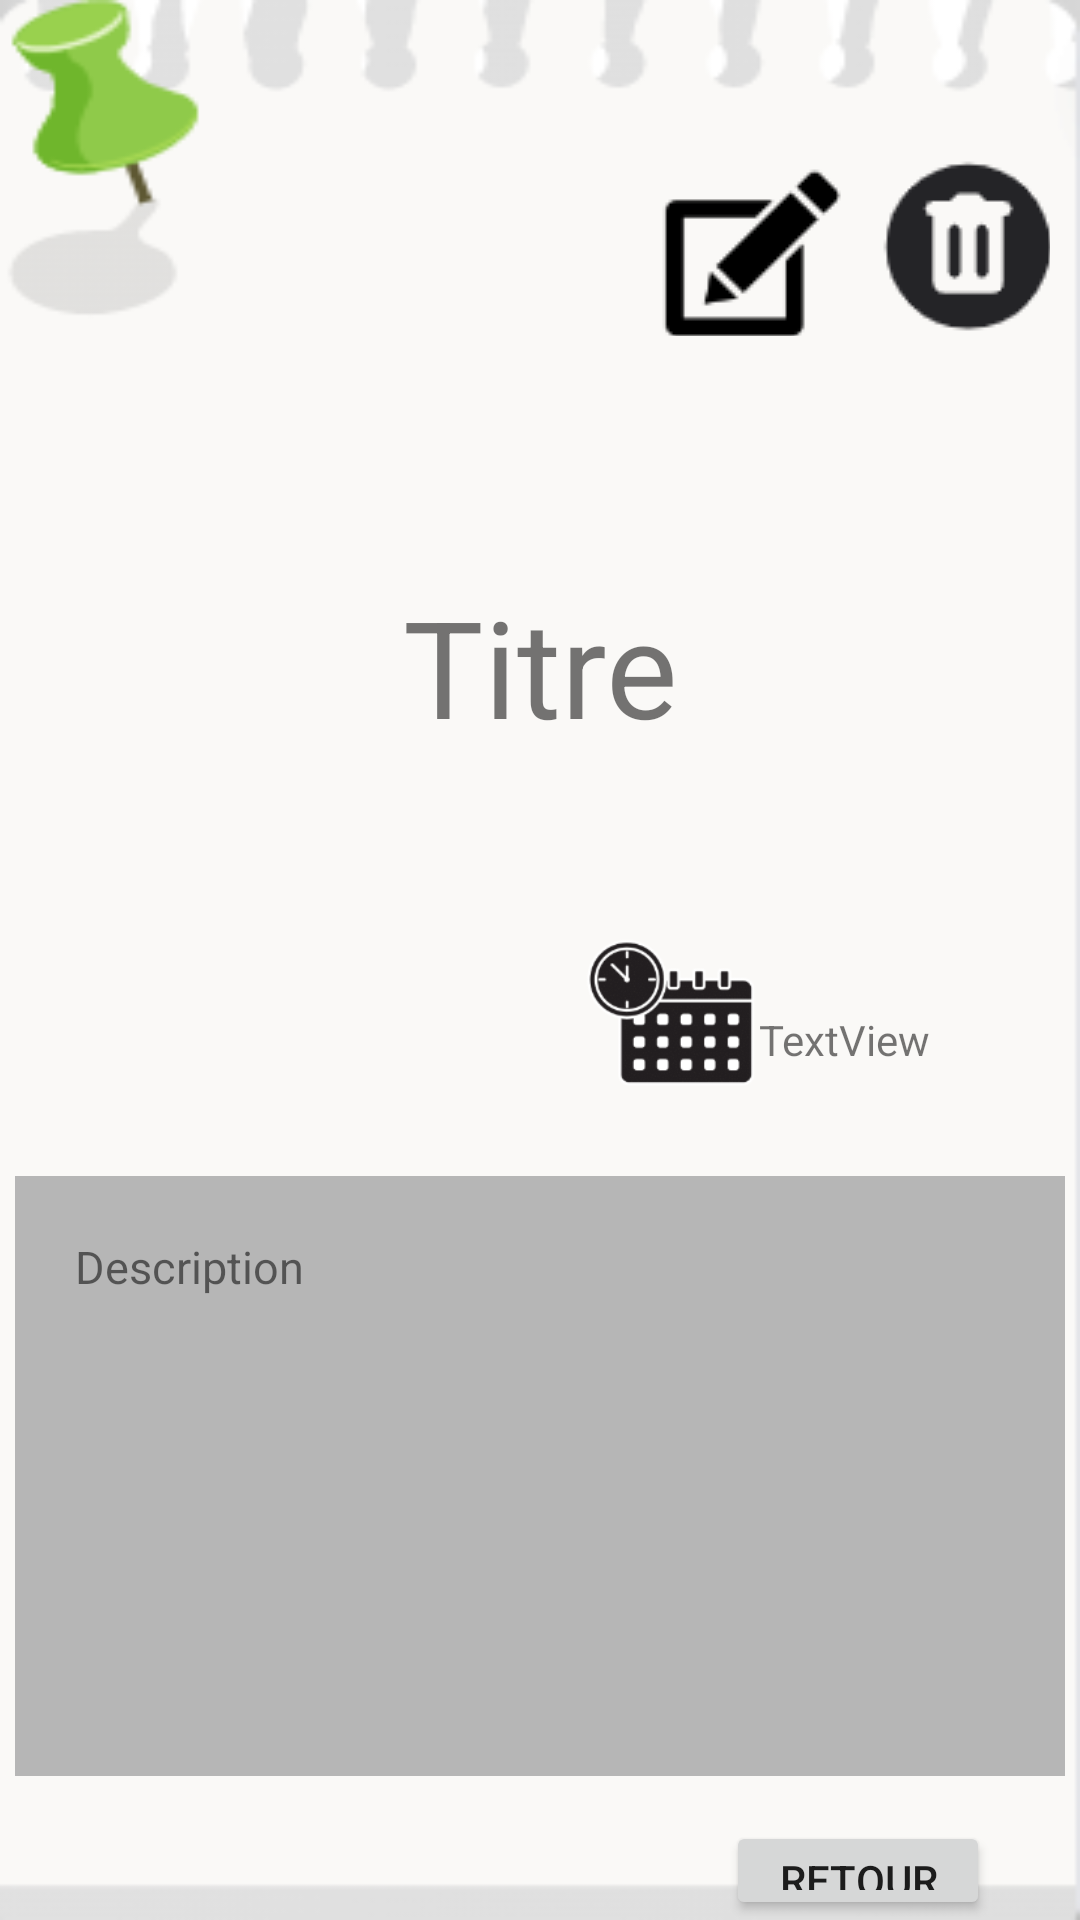

Screen size 1080px x 1920px. Icon name, then its center in pixels as point (x, y):
calendrier: point (670, 1012)
modifier: point (753, 253)
suprimer: point (967, 246)
